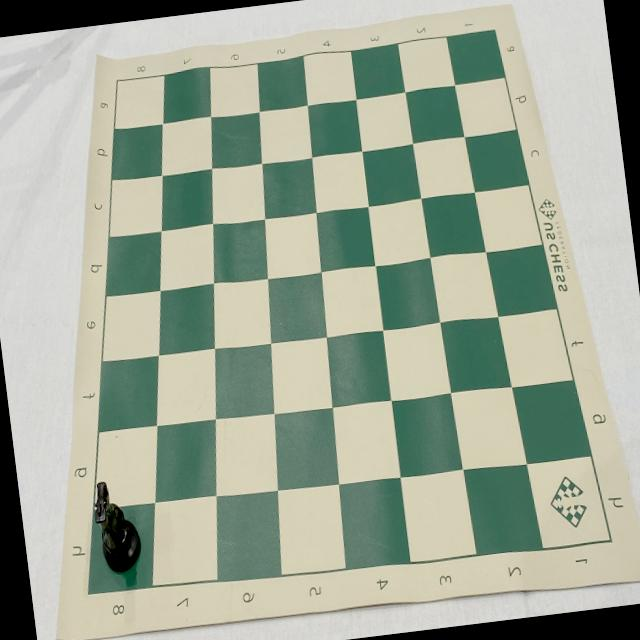black-knight: (91, 477, 144, 575)
